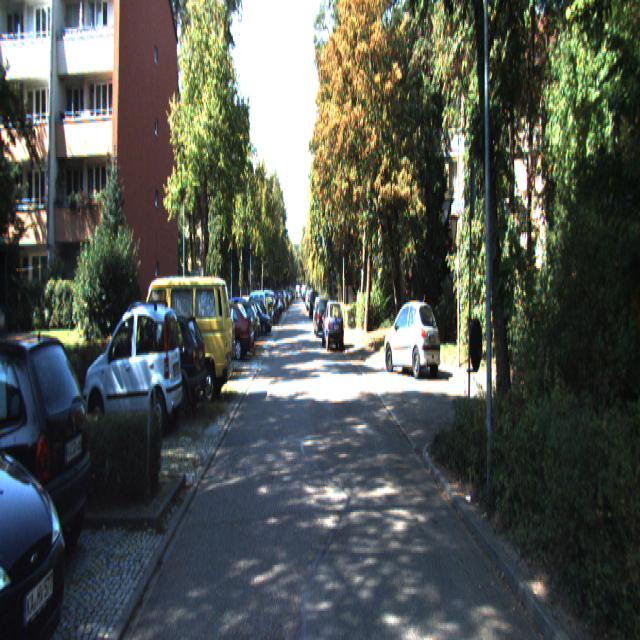Car: (0, 324, 100, 596), (0, 324, 77, 638), (84, 303, 184, 445), (139, 270, 234, 406), (115, 307, 207, 422), (384, 302, 442, 384), (202, 300, 255, 359), (322, 302, 344, 352)
